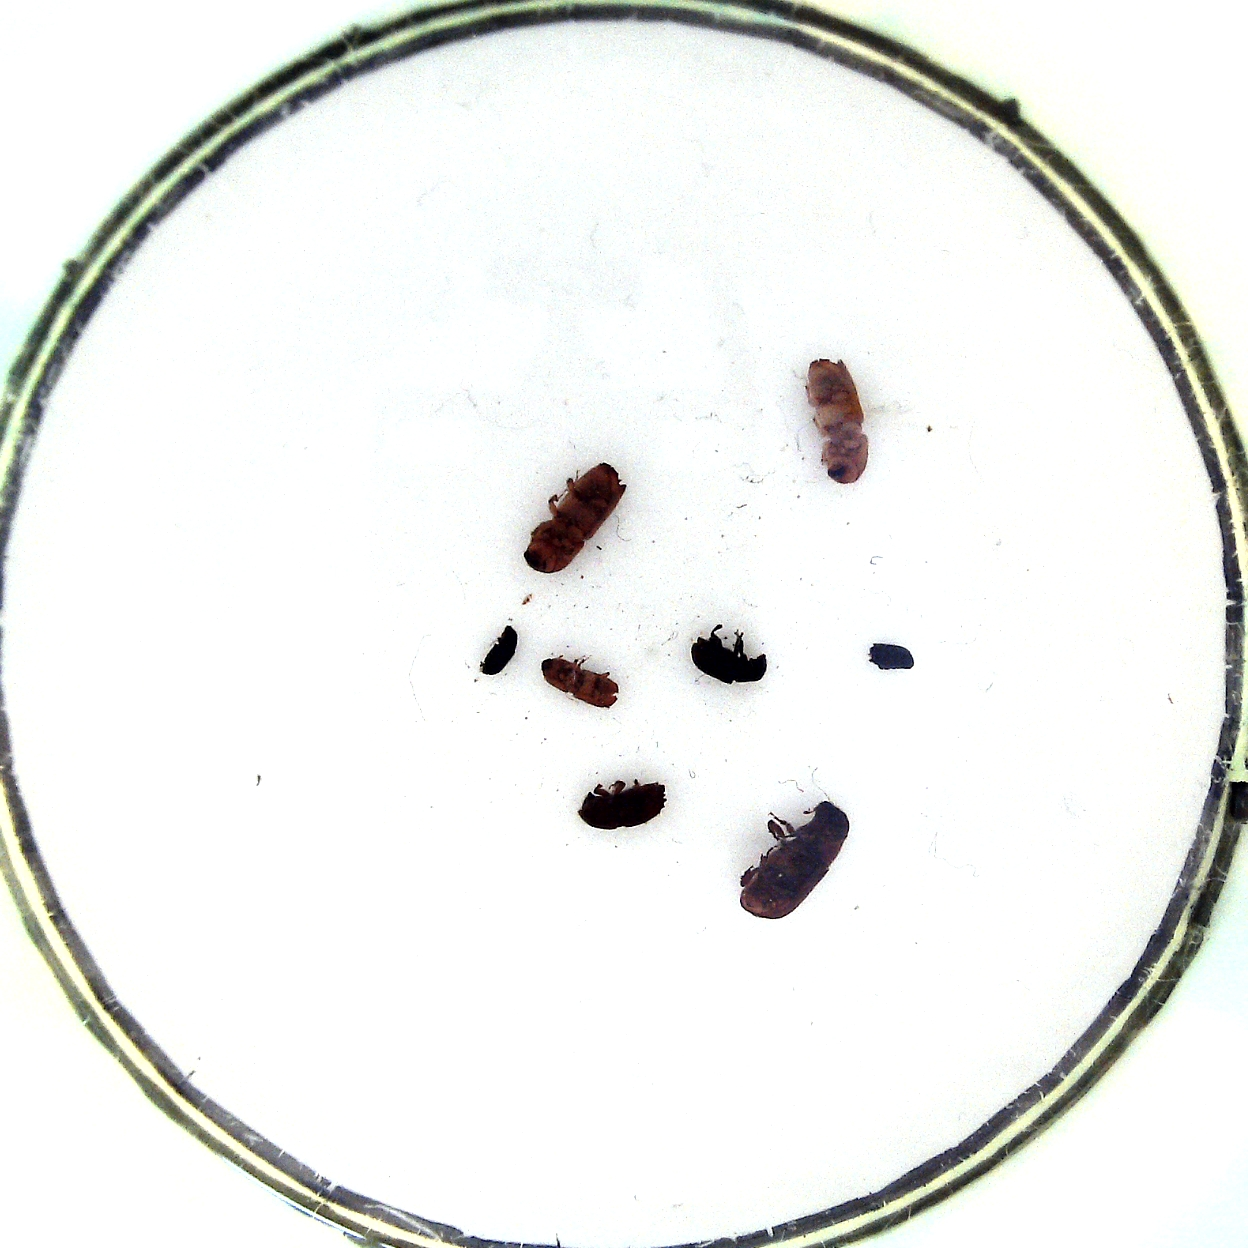Boerner: (520, 459, 632, 576), (795, 354, 874, 489)
Leconte: (738, 799, 853, 925)
Linnaeus: (573, 776, 670, 831)
acuminatus: (533, 651, 619, 713)
armandi: (691, 625, 773, 690)
coleoptera: (473, 625, 520, 677), (863, 640, 922, 677)
